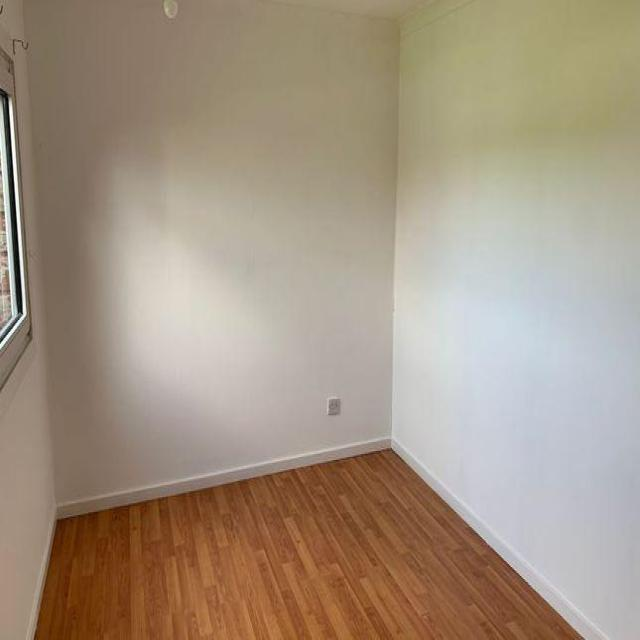Wall: (0, 0, 640, 637), (35, 450, 578, 639), (273, 1, 430, 20)
